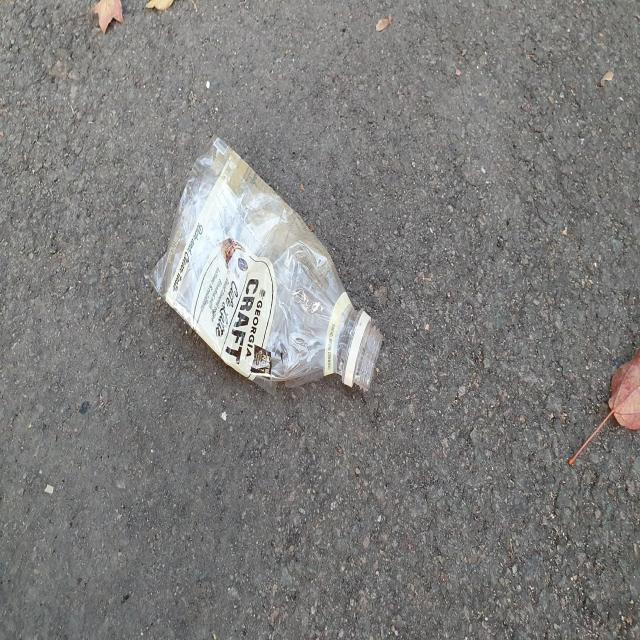plastic: (150, 138, 383, 390)
